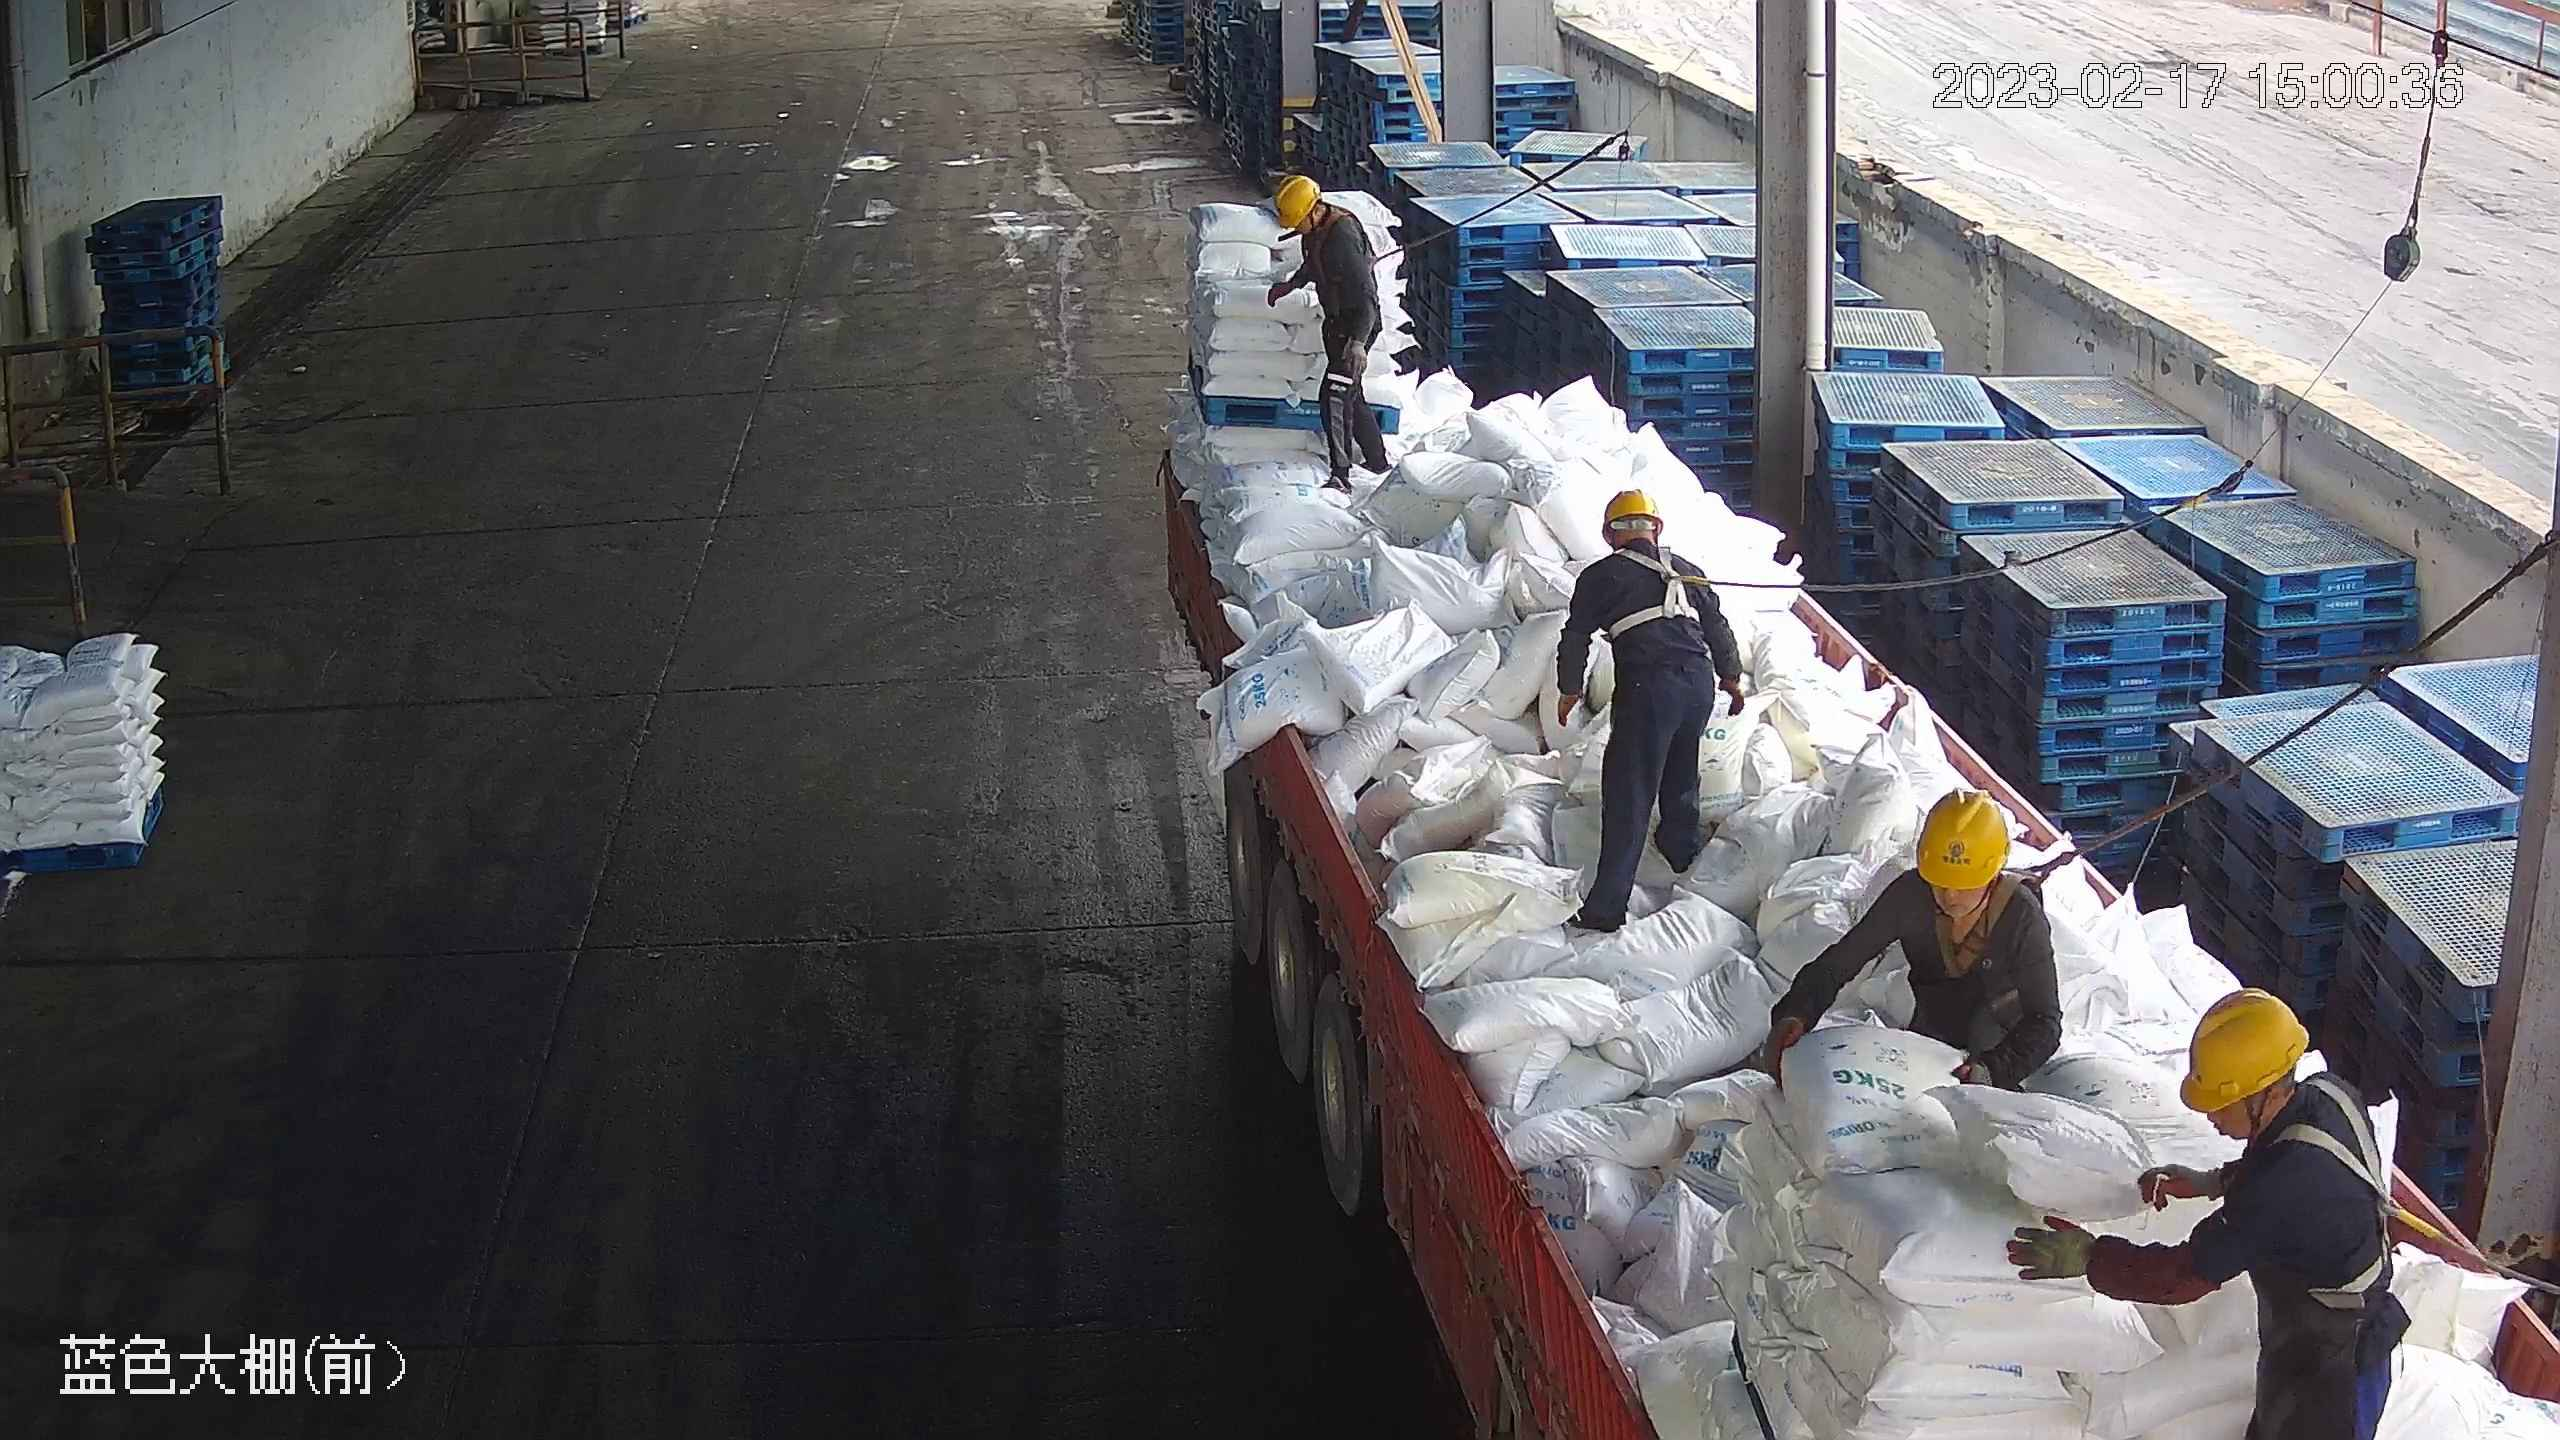belt: (2264, 1078, 2429, 1305), (1912, 859, 2062, 976), (1603, 542, 1709, 631), (1316, 203, 1392, 279)
head: (2170, 998, 2387, 1246), (1875, 789, 2054, 975), (1578, 487, 1707, 604), (1271, 176, 1373, 272)
helmet: (2175, 990, 2311, 1112), (1912, 787, 2013, 889), (1598, 486, 1663, 533), (1272, 173, 1322, 230)
people: (2012, 991, 2417, 1440), (1755, 782, 2063, 1102), (1551, 478, 1743, 931), (1261, 170, 1392, 489)
truck: (1130, 389, 2560, 1434)
